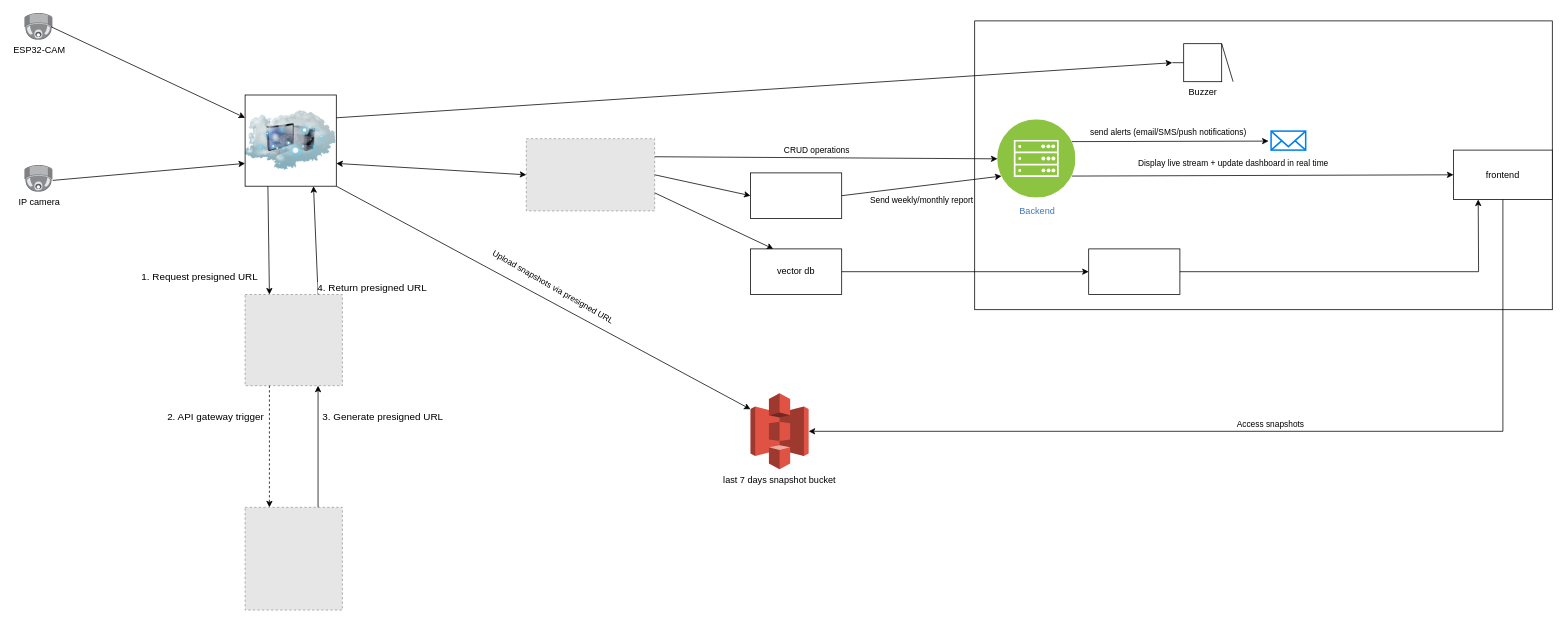
Image size: 1566x623. Some labels were removed from this diagram. Grey dashed boxes stand in for pictures. Here are the shapes that lost their labels. From the top down, the box of each, then its label:
(245, 95, 336, 186): Raspberry pi convLSTM + Yolo
(750, 172, 842, 218): Analysis
(1088, 248, 1180, 294): chatbot
